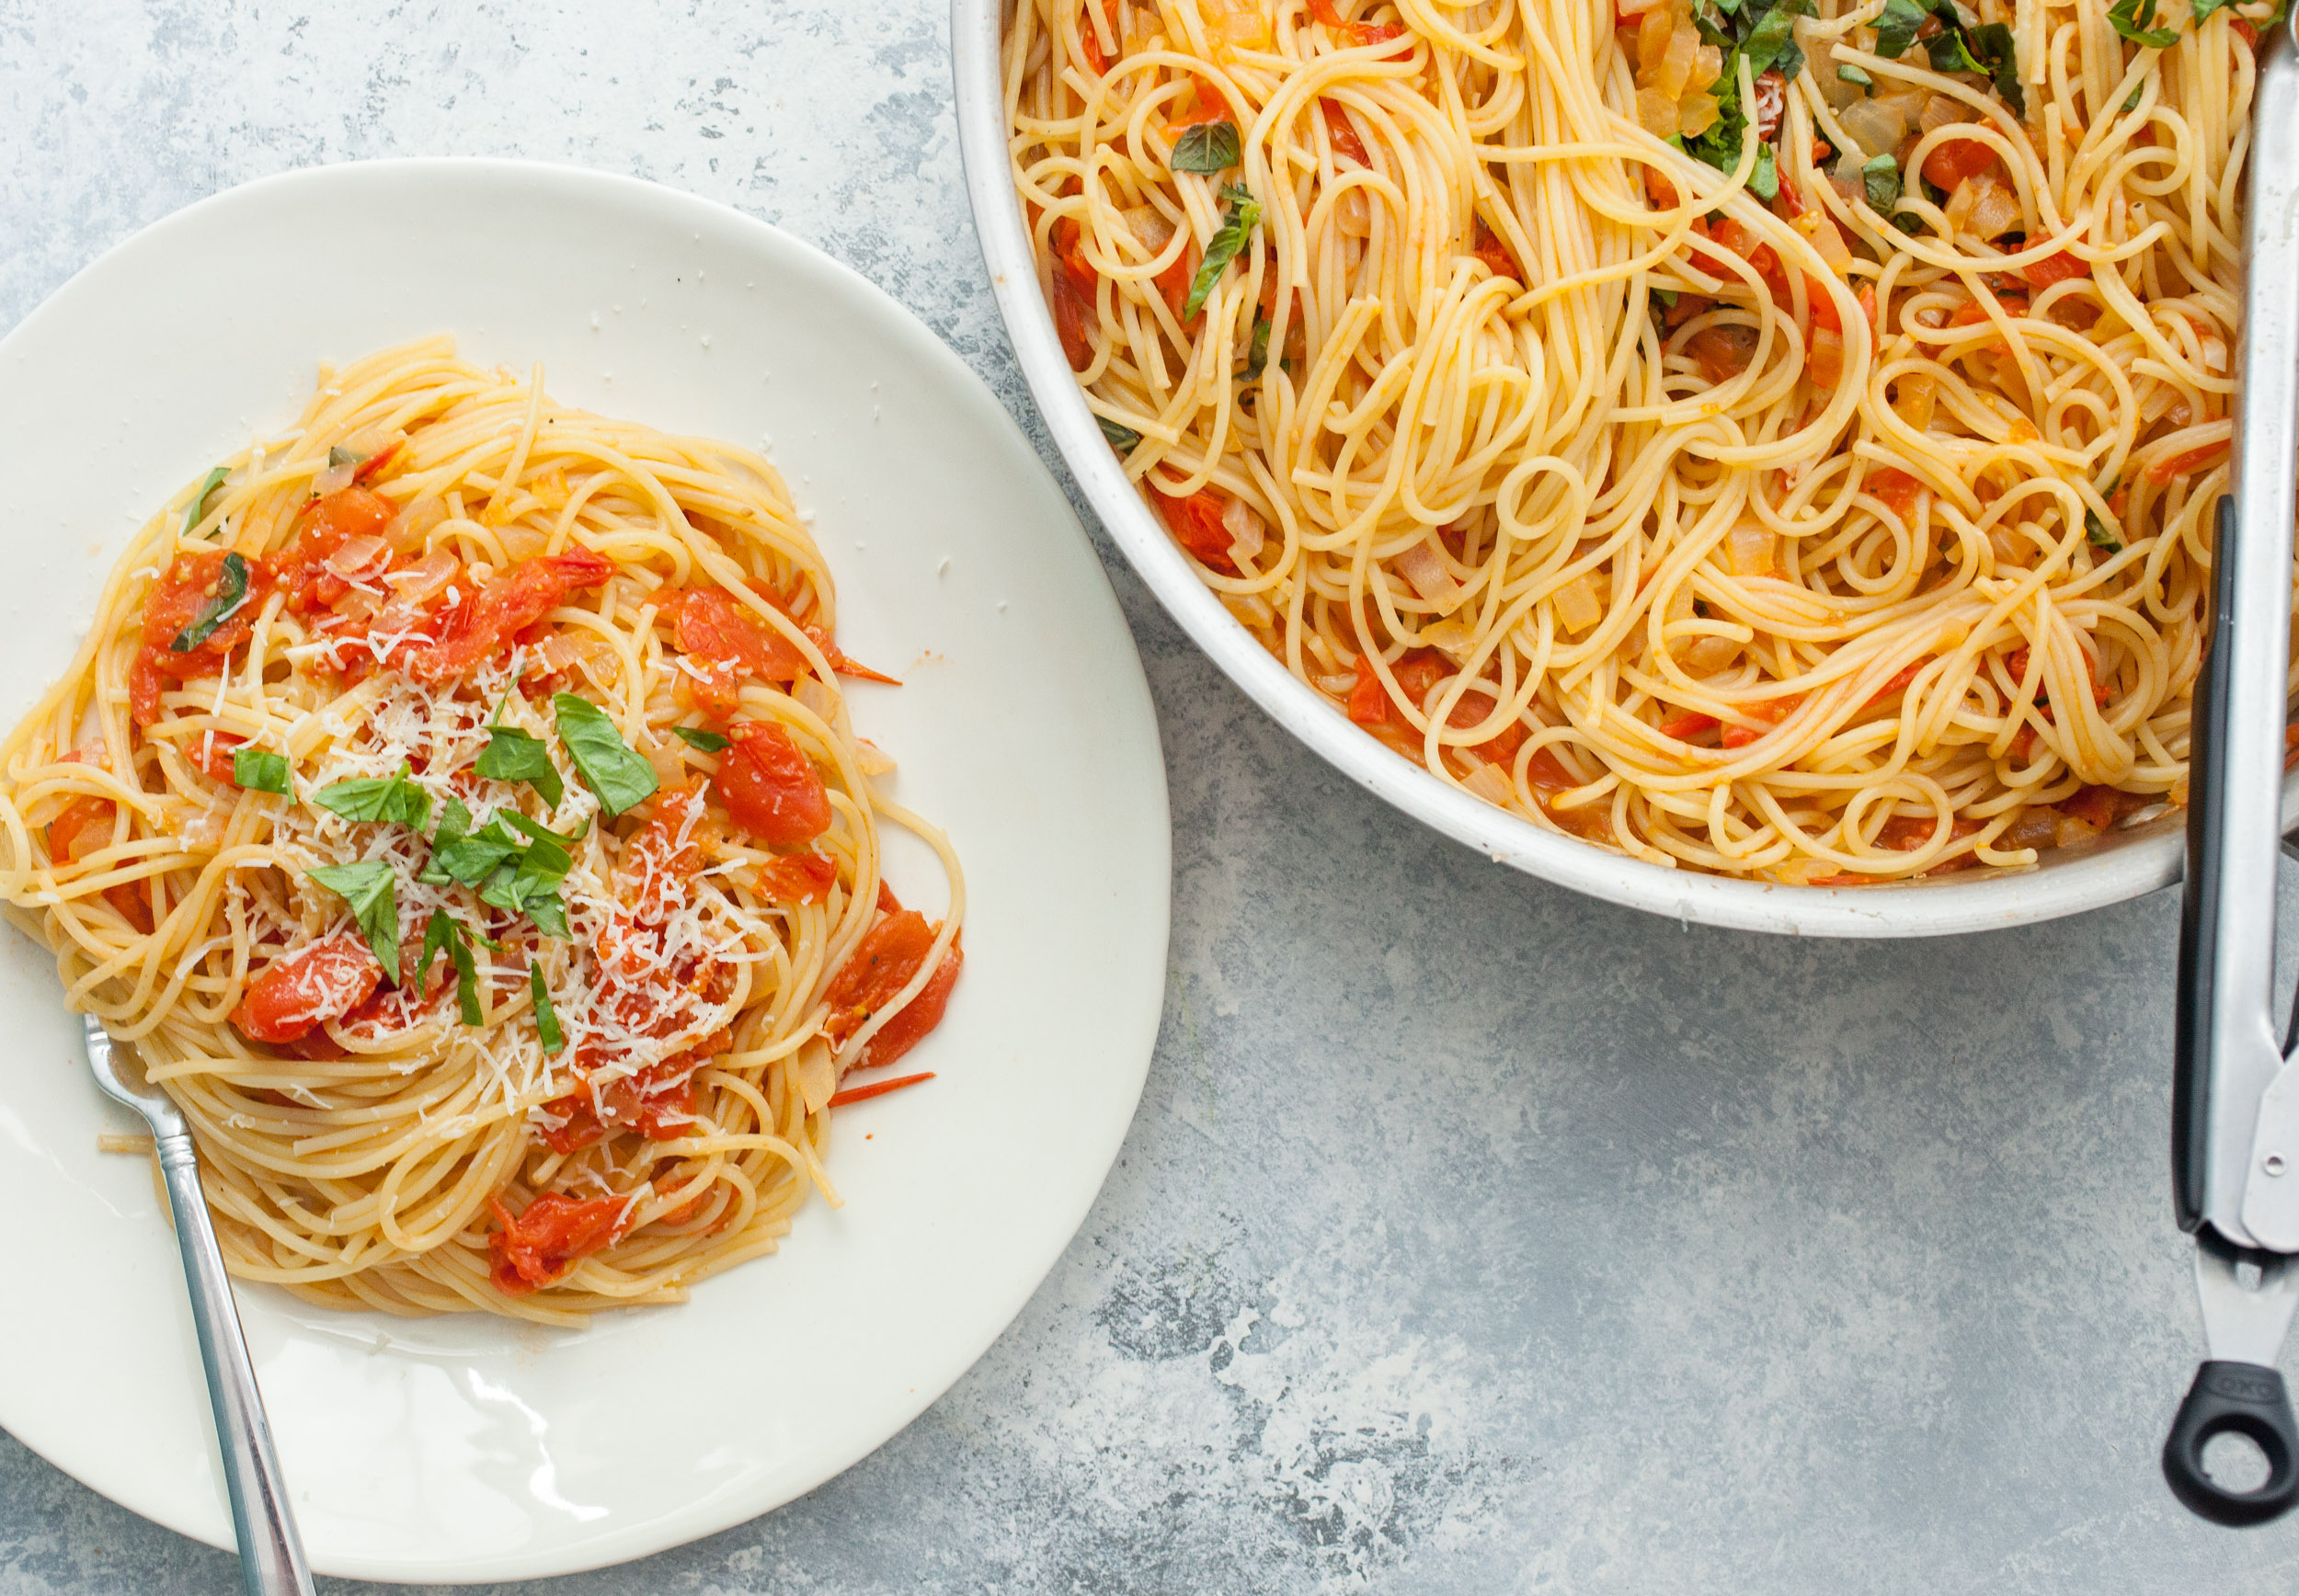plain spaghetti: (1046, 2, 2229, 849), (80, 405, 877, 1278)
